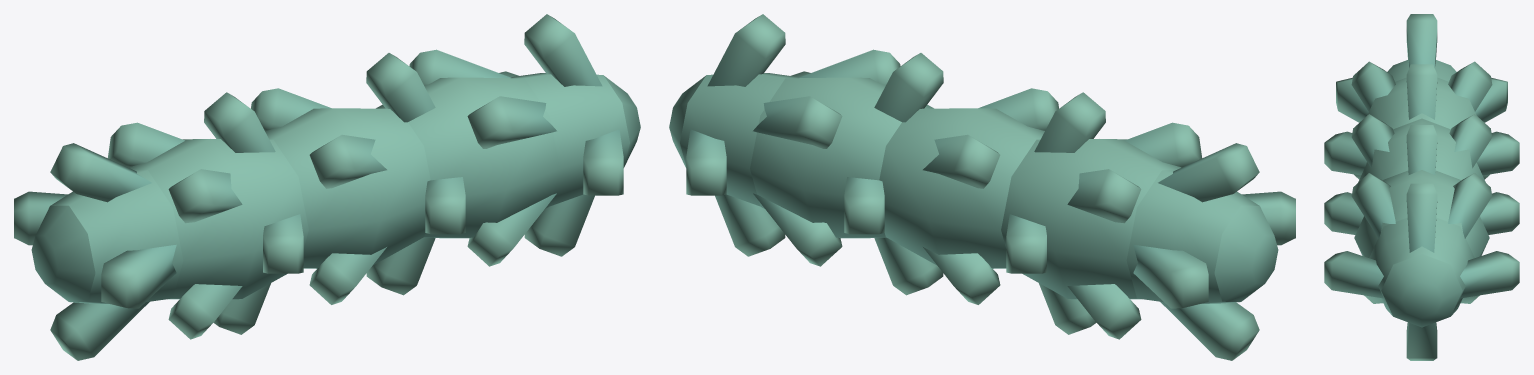
Rendered from garland.glb.
3 views of the same model, side by side, from view 1: azimuth 30°, elevation 25°; view 2: azimuth 150°, elevation 25°; view 3: azimuth 270°, elevation 25° (orthographic). The views are drawn at different scales.
Parts seen in each view (by area): view 1: garland; view 2: garland; view 3: garland.
Boxes of the visible parts, x1,y1,x2,y2 form: garland: (14, 14, 640, 360); garland: (669, 14, 1295, 360); garland: (1324, 14, 1519, 360).
Size of the model in its own units: 0.8041 by 0.306 by 0.306.
